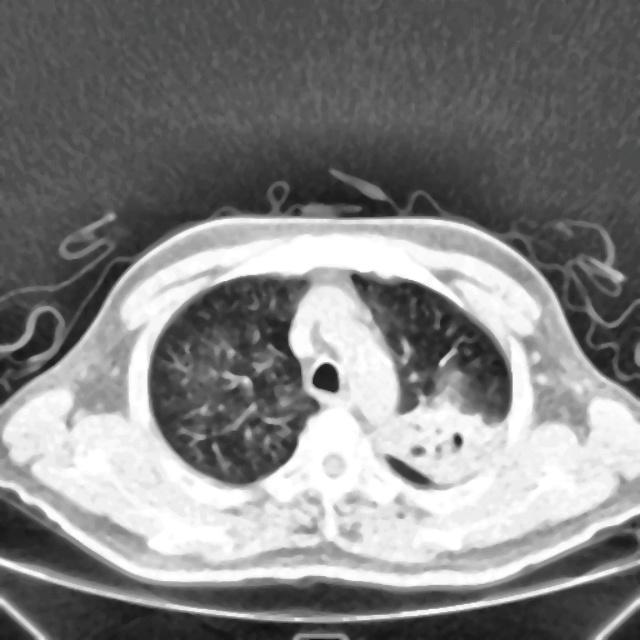covid: (0, 194, 639, 596)
